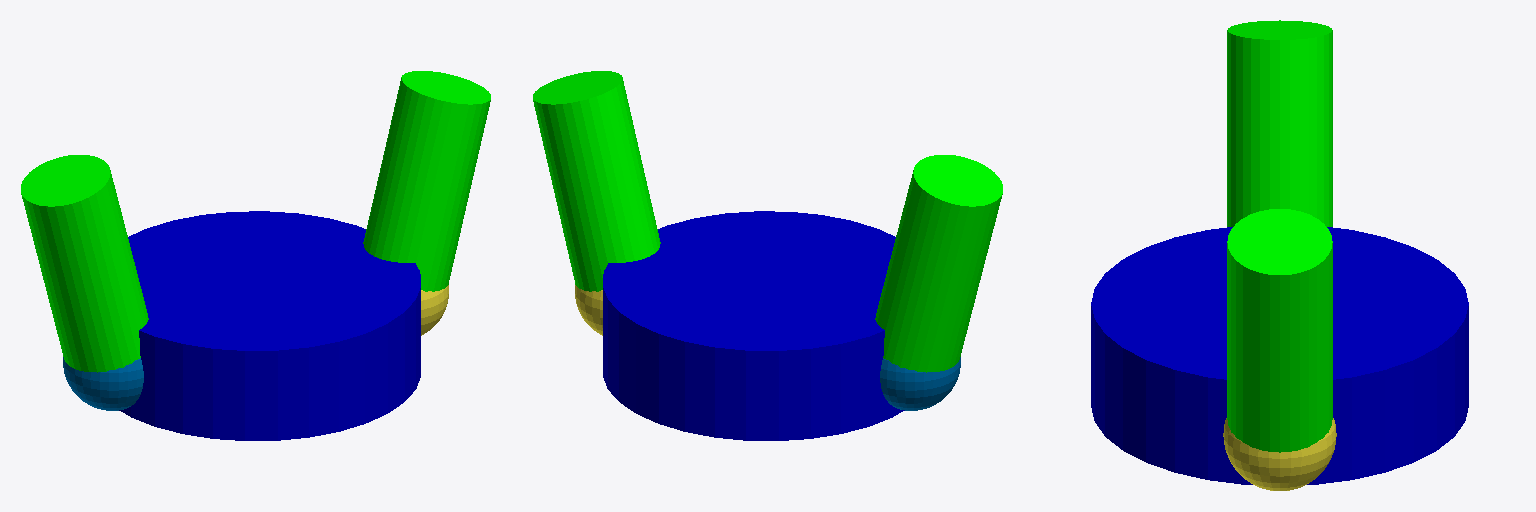
URDF robot description (gripper_2f_1j):
<?xml version='1.0' encoding='UTF-8'?>
<robot name="gripper_2f_1j">
  <link name="palm">
    <inertial>
      <origin xyz="0.0 0.0 0.0" rpy="0.0 -0.0 0.0"/>
      <mass value="1.0"/>
      <inertia ixx="1.0" ixy="0.0" ixz="0.0" iyy="1.0" iyz="0.0" izz="1.0"/>
    </inertial>
    <visual>
      <geometry>
        <cylinder radius="0.05" length="0.03"/>
      </geometry>
      <material name="blue"/>
      <origin xyz="0.0 0.0 0.0" rpy="0.0 -0.0 0.0"/>
    </visual>
    <collision>
      <geometry>
        <cylinder radius="0.05" length="0.03"/>
      </geometry>
      <origin xyz="0.0 0.0 0.0" rpy="0.0 0.0 0.0"/>
    </collision>
  </link>
  <link name="f11">
    <inertial>
      <origin xyz="0.0 0.0 0.0" rpy="0.0 -0.0 0.0"/>
      <mass value="1.0"/>
      <inertia ixx="1.0" ixy="0.0" ixz="0.0" iyy="1.0" iyz="0.0" izz="1.0"/>
    </inertial>
    <visual>
      <geometry>
        <cylinder radius="0.013931744000062495" length="0.06597677972001004"/>
      </geometry>
      <material name="green"/>
      <origin xyz="0.0 0.0 0.03298838986000502" rpy="0.0 -0.0 0.0"/>
    </visual>
    <collision>
      <geometry>
        <cylinder radius="0.013931744000062495" length="0.06597677972001004"/>
      </geometry>
      <origin xyz="0.0 0.0 0.05" rpy="0.0 0.0 0.0"/>
    </collision>
  </link>
  <link name="f21">
    <inertial>
      <origin xyz="0.0 0.0 0.0" rpy="0.0 -0.0 0.0"/>
      <mass value="1.0"/>
      <inertia ixx="1.0" ixy="0.0" ixz="0.0" iyy="1.0" iyz="0.0" izz="1.0"/>
    </inertial>
    <visual>
      <geometry>
        <cylinder radius="0.013931744000062495" length="0.06597677972001004"/>
      </geometry>
      <material name="green"/>
      <origin xyz="0.0 0.0 0.03298838986000502" rpy="0.0 -0.0 0.0"/>
    </visual>
    <collision>
      <geometry>
        <cylinder radius="0.013931744000062495" length="0.06597677972001004"/>
      </geometry>
      <origin xyz="0.0 0.0 0.05" rpy="0.0 0.0 0.0"/>
    </collision>
  </link>
  <link name="f11_base">
    <inertial>
      <origin xyz="0.0 0.0 0.0" rpy="0.0 -0.0 0.0"/>
      <mass value="1.0"/>
      <inertia ixx="1.0" ixy="0.0" ixz="0.0" iyy="1.0" iyz="0.0" izz="1.0"/>
    </inertial>
    <visual>
      <geometry>
        <sphere radius="0.015"/>
      </geometry>
      <origin xyz="0.0 0.0 0.0" rpy="0.0 -0.0 0.0"/>
    </visual>
  </link>
  <link name="f21_base">
    <inertial>
      <origin xyz="0.0 0.0 0.0" rpy="0.0 -0.0 0.0"/>
      <mass value="1.0"/>
      <inertia ixx="1.0" ixy="0.0" ixz="0.0" iyy="1.0" iyz="0.0" izz="1.0"/>
    </inertial>
    <visual>
      <geometry>
        <sphere radius="0.015"/>
      </geometry>
      <origin xyz="0.0 0.0 0.0" rpy="0.0 -0.0 0.0"/>
    </visual>
  </link>
  <joint name="f11_joint" type="revolute">
    <dynamics damping="100.0" friction="1.0"/>
    <limit effort="30.0" velocity="2.0" lower="-0.6" upper="0.25"/>
    <parent link="f11_base"/>
    <child link="f11"/>
    <axis xyz="0. 1. 0."/>
    <origin xyz="0.0 0.0 0.0" rpy="0.0 0.25 0.0"/>
  </joint>
  <joint name="f21_joint" type="revolute">
    <dynamics damping="100.0" friction="1.0"/>
    <limit effort="30.0" velocity="2.0" lower="-0.6" upper="0.25"/>
    <parent link="f21_base"/>
    <child link="f21"/>
    <axis xyz=" 0. -1.  0."/>
    <origin xyz="0.0 0.0 0.0" rpy="0.0 -0.25 0.0"/>
  </joint>
  <joint name="f11_base_joint" type="fixed">
    <parent link="palm"/>
    <child link="f11_base"/>
    <axis xyz="1. 0. 0."/>
    <origin xyz="0.05 0.0 0.0" rpy="0.0 0.0 0.0"/>
  </joint>
  <joint name="f21_base_joint" type="fixed">
    <parent link="palm"/>
    <child link="f21_base"/>
    <axis xyz="1. 0. 0."/>
    <origin xyz="-0.05 -0.0 0.0" rpy="0.0 0.0 0.0"/>
  </joint>
  <material name="blue">
    <color rgba="0.  0.  0.8 1. "/>
  </material>
  <material name="green">
    <color rgba="0. 1. 0. 1."/>
  </material>
</robot>

--- What the picture shows (computed from the rendered views, not written in the file) ---
Views: 3 orthographic renders of the robot side by side, from view 1: azimuth 30°, elevation 25°; view 2: azimuth 150°, elevation 25°; view 3: azimuth 270°, elevation 25°.
Robot: gripper_2f_1j — 5 links, 4 joints (2 revolute, 2 fixed); root link palm; default pose: every joint at zero.
Visible links, largest first — view 1: palm, f21, f11, f21_base, f11_base; view 2: palm, f21, f11, f21_base, f11_base; view 3: palm, f11, f21, f11_base.
Link boxes in pixels (x1,y1,x2,y2): palm: (119,211,420,440); f21: (21,155,148,372); f11: (363,71,490,291); f21_base: (63,357,143,410); f11_base: (421,285,448,335); palm: (603,211,904,440); f21: (875,155,1002,372); f11: (533,71,660,291); f21_base: (880,357,960,410); f11_base: (575,285,602,335); palm: (1091,227,1468,484); f11: (1227,209,1332,452); f21: (1227,20,1332,226); f11_base: (1223,418,1336,490).
Bounding box of the posed robot: 0.1596 × 0.1 × 0.0824 m (x, y, z).
Geometry: primitives only (box / cylinder / sphere), no mesh files.